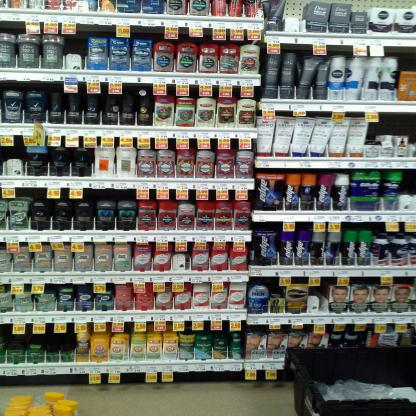Void: (370, 108, 415, 135), (48, 333, 79, 364), (64, 29, 87, 70), (5, 335, 27, 366), (2, 147, 25, 160)
